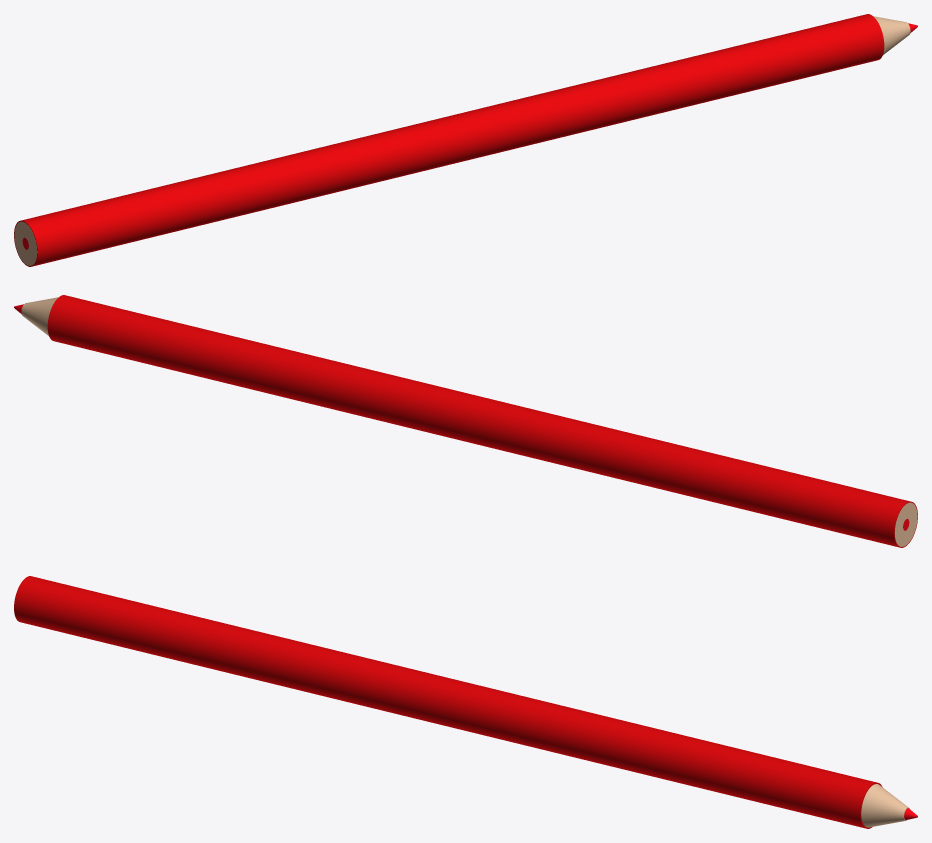
Rendered from 赤鉛筆2.fbx.
The picture shows the model from 3 angles, top to bottom: view 1: azimuth 30°, elevation 25°; view 2: azimuth 150°, elevation 25°; view 3: azimuth 330°, elevation 25°; orthographic projection.
Visible parts, largest first — view 1: 円柱.002, 円柱; view 2: 円柱.002, 円柱; view 3: 円柱.002, 円柱.
Part boxes in pixels (bbox=[...]): 円柱.002: bbox=[14, 14, 884, 266]; 円柱: bbox=[14, 16, 910, 265]; 円柱.002: bbox=[47, 295, 917, 547]; 円柱: bbox=[21, 297, 917, 546]; 円柱.002: bbox=[14, 576, 882, 828]; 円柱: bbox=[861, 784, 909, 827].
Size of the model in its own units: 999 by 45.99 by 46.
